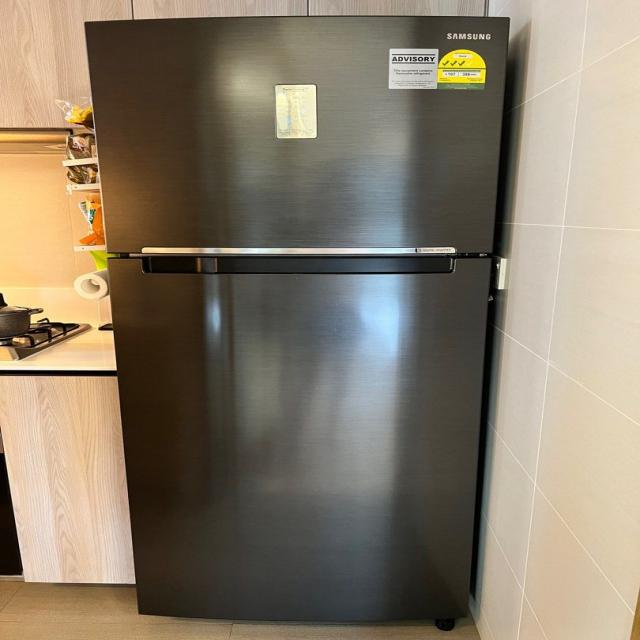refrigerator: (81, 15, 509, 626)
